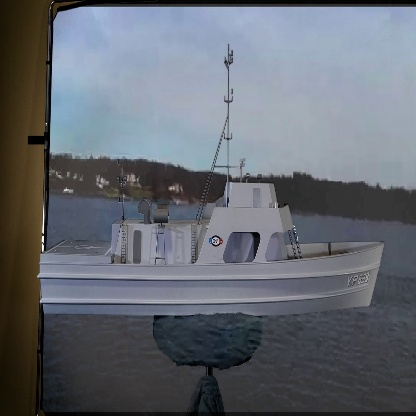YP689: (37, 43, 385, 318)
